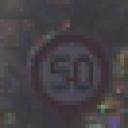speed_limit_50: (26, 30, 112, 111)
